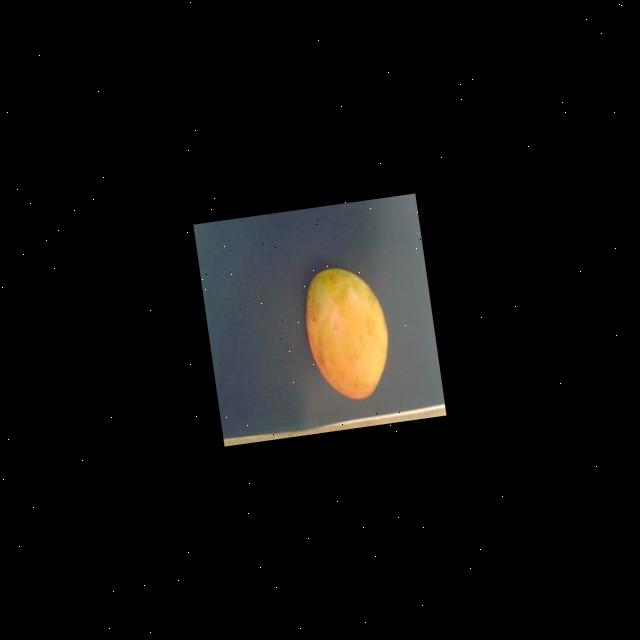Mango: (298, 262, 396, 406)
